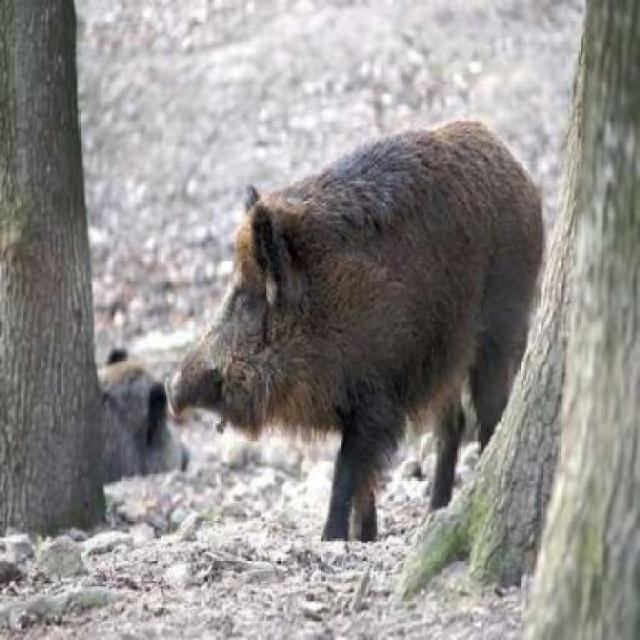pig: (105, 95, 557, 554)
